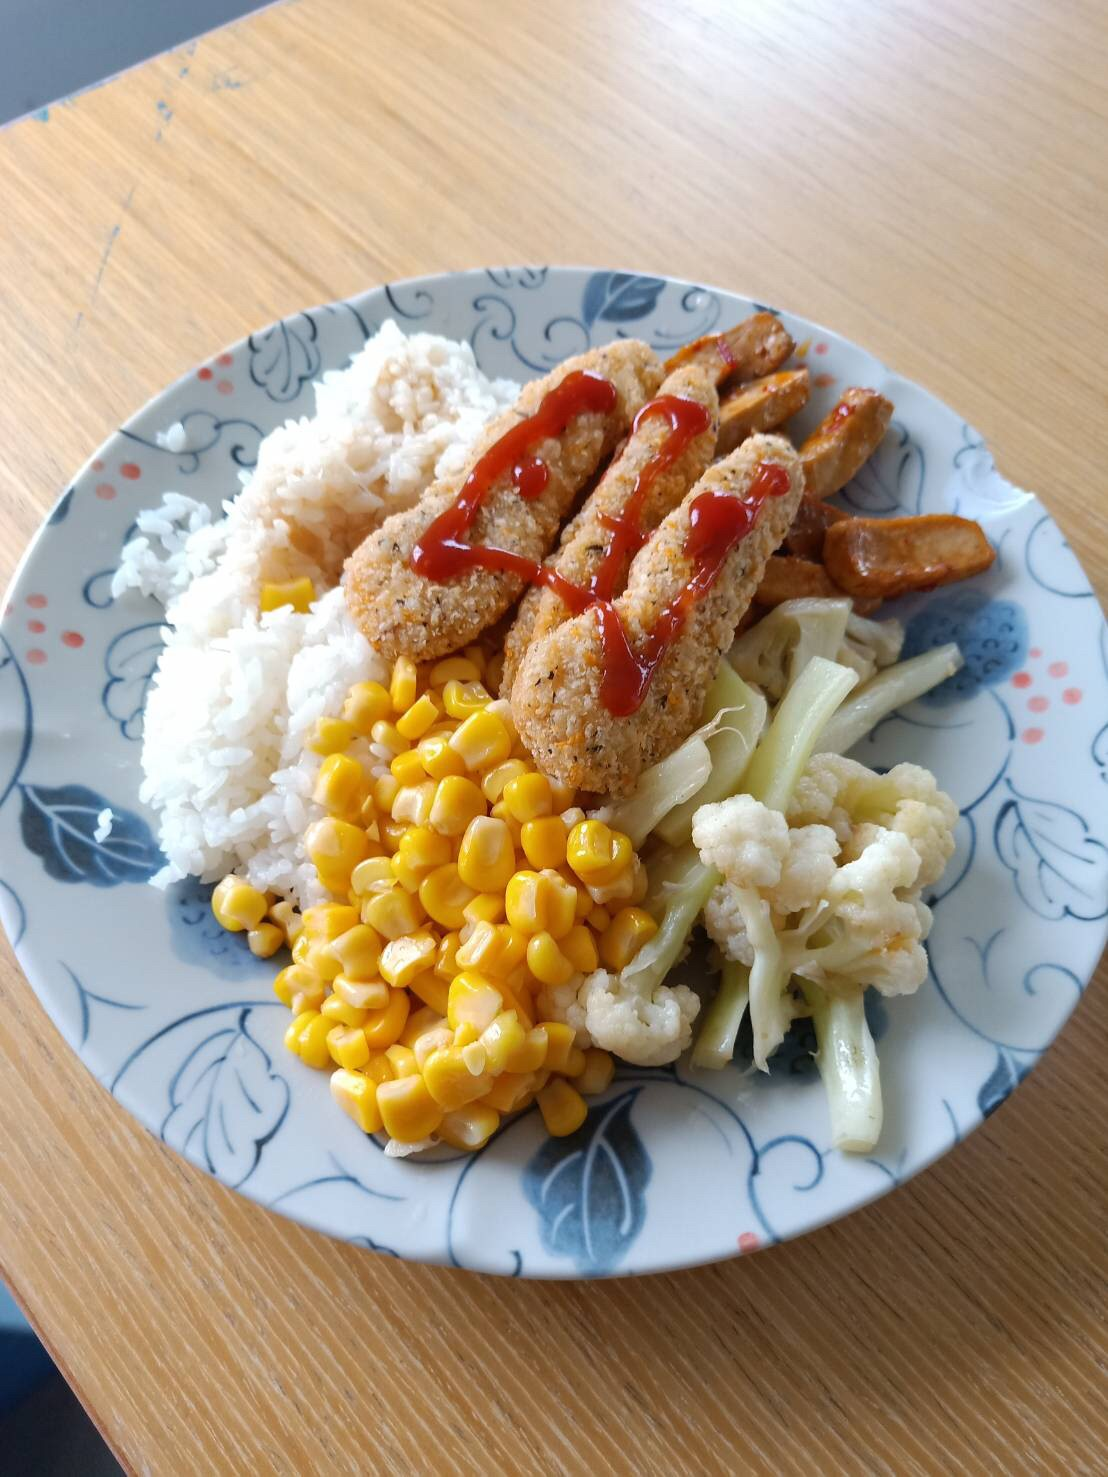rice: (125, 318, 506, 876)
